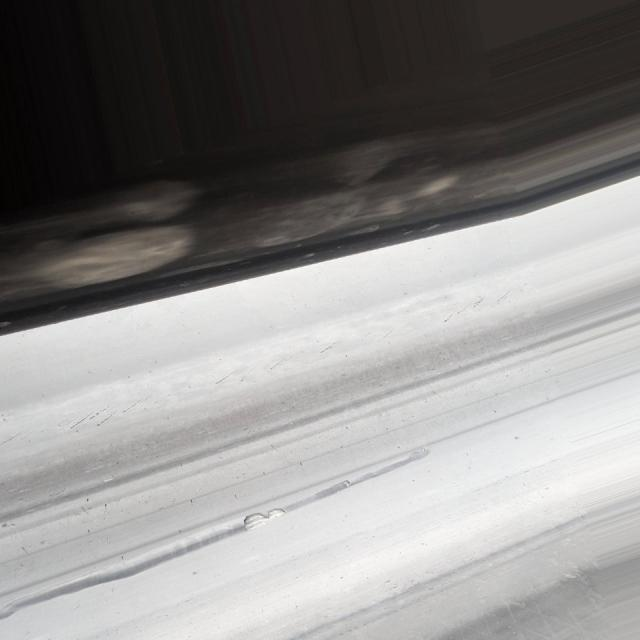Tear: (239, 498, 288, 539)
impact damage: (0, 439, 440, 622)
